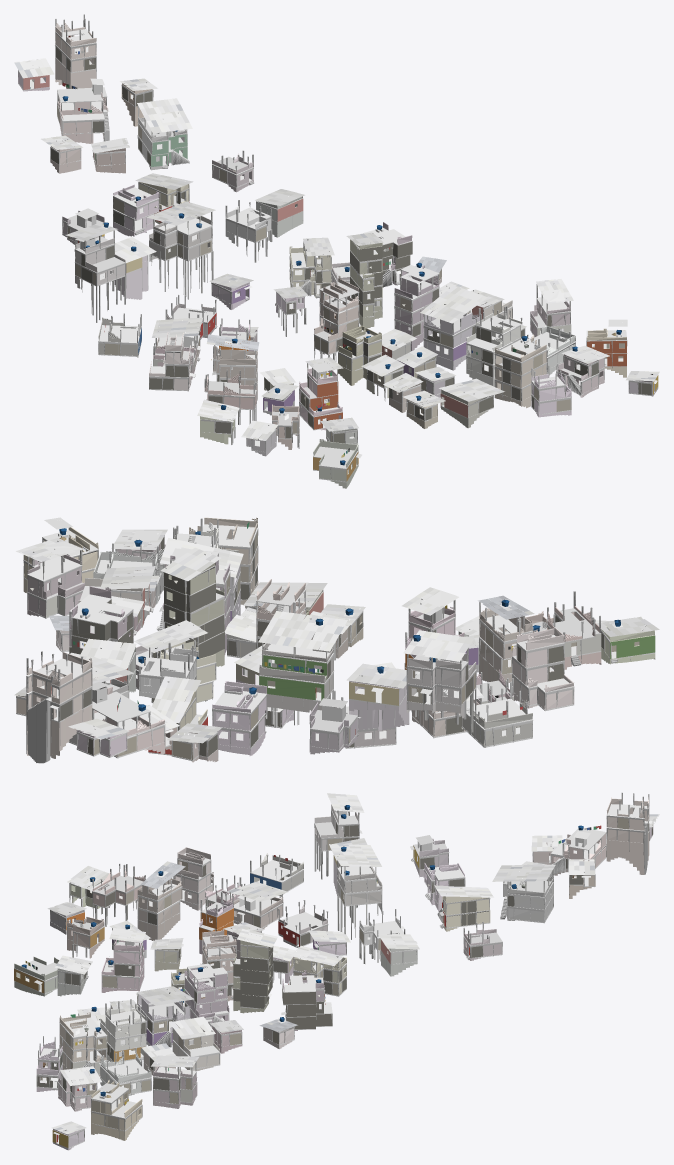
3 views of the same model, one above another, from view 1: azimuth 30°, elevation 25°; view 2: azimuth 150°, elevation 25°; view 3: azimuth 270°, elevation 25° (orthographic). The views are drawn at different scales.
Parts seen in each view (by area): view 1: T_28_27; view 2: T_28_27; view 3: T_28_27.
Boxes of the visible parts, x1,y1,x2,y2 form: T_28_27: [14, 14, 659, 488]; T_28_27: [14, 517, 659, 763]; T_28_27: [14, 792, 659, 1150].
Bounding box in the file's own units: 105 × 49.14 × 134.
